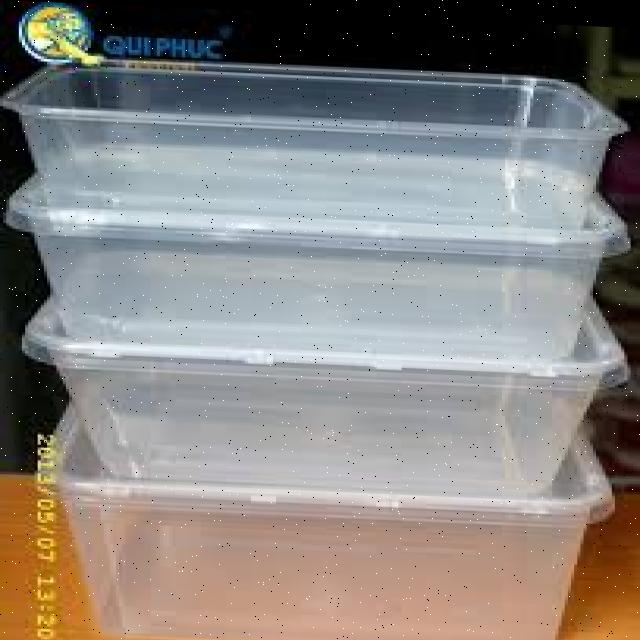disposable: (4, 58, 620, 239)
